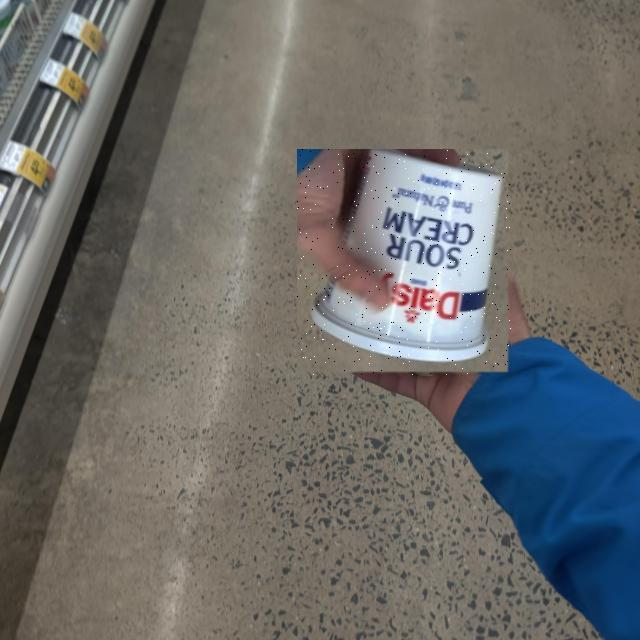Yoghurt: (298, 150, 512, 376)
